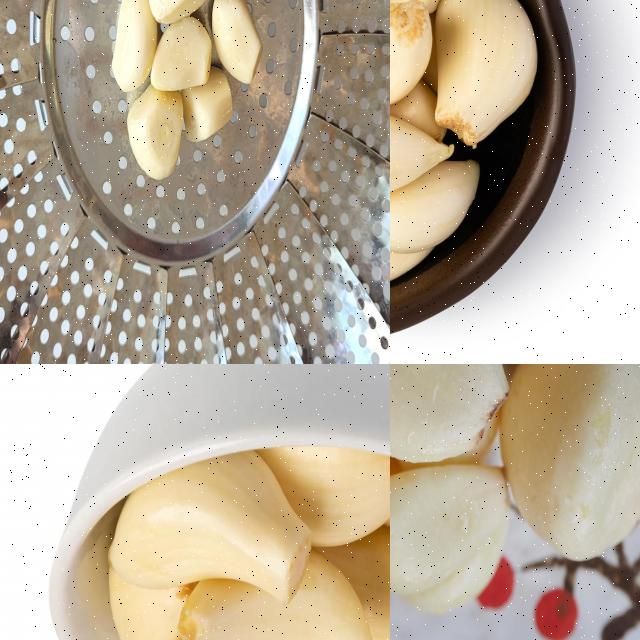garlic: (390, 364, 639, 620), (107, 434, 389, 639), (83, 0, 263, 182), (436, 0, 537, 148), (390, 145, 488, 250), (390, 4, 440, 115)
